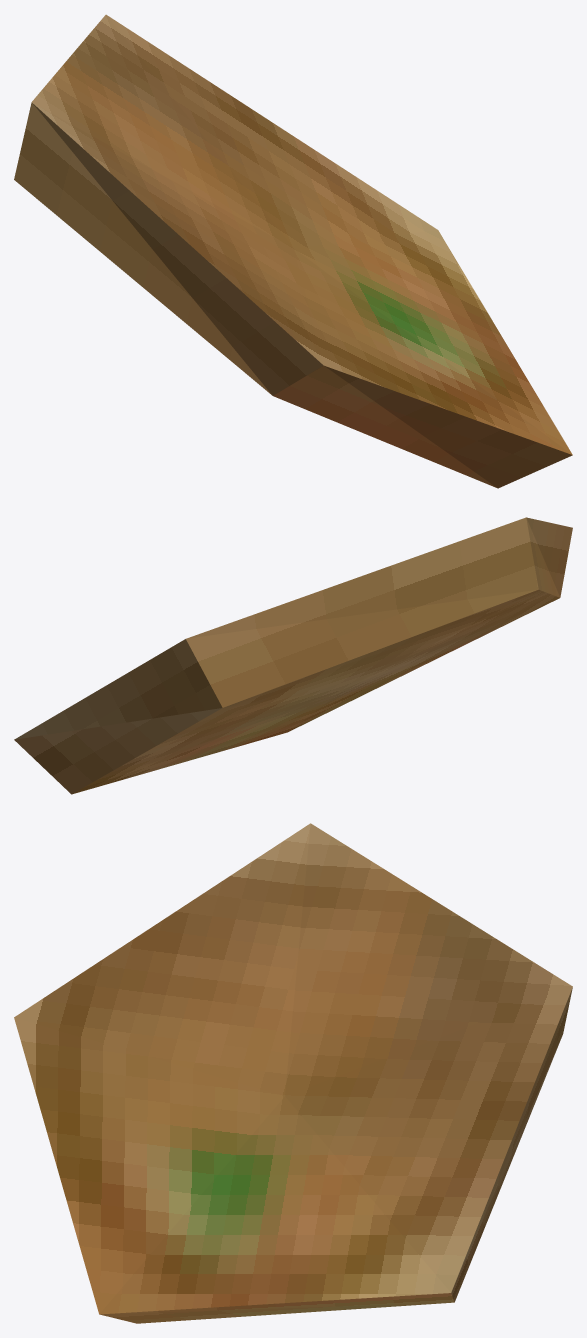
File: rock5.obj
The picture shows the model from 3 angles, top to bottom: view 1: azimuth 30°, elevation 25°; view 2: azimuth 150°, elevation 25°; view 3: azimuth 270°, elevation 25°; orthographic projection. The views are drawn at different scales.
Parts seen in each view (by area): view 1: Icosphere; view 2: Icosphere; view 3: Icosphere.
Boxes of the visible parts, box(x1,y1,x2,y2) form: Icosphere: box(14, 14, 572, 488); Icosphere: box(14, 517, 572, 794); Icosphere: box(14, 823, 572, 1323).
Bounding box in the file's own units: 1.46 × 1.11 × 1.63.
Materials: 1 (1 with a texture image).
